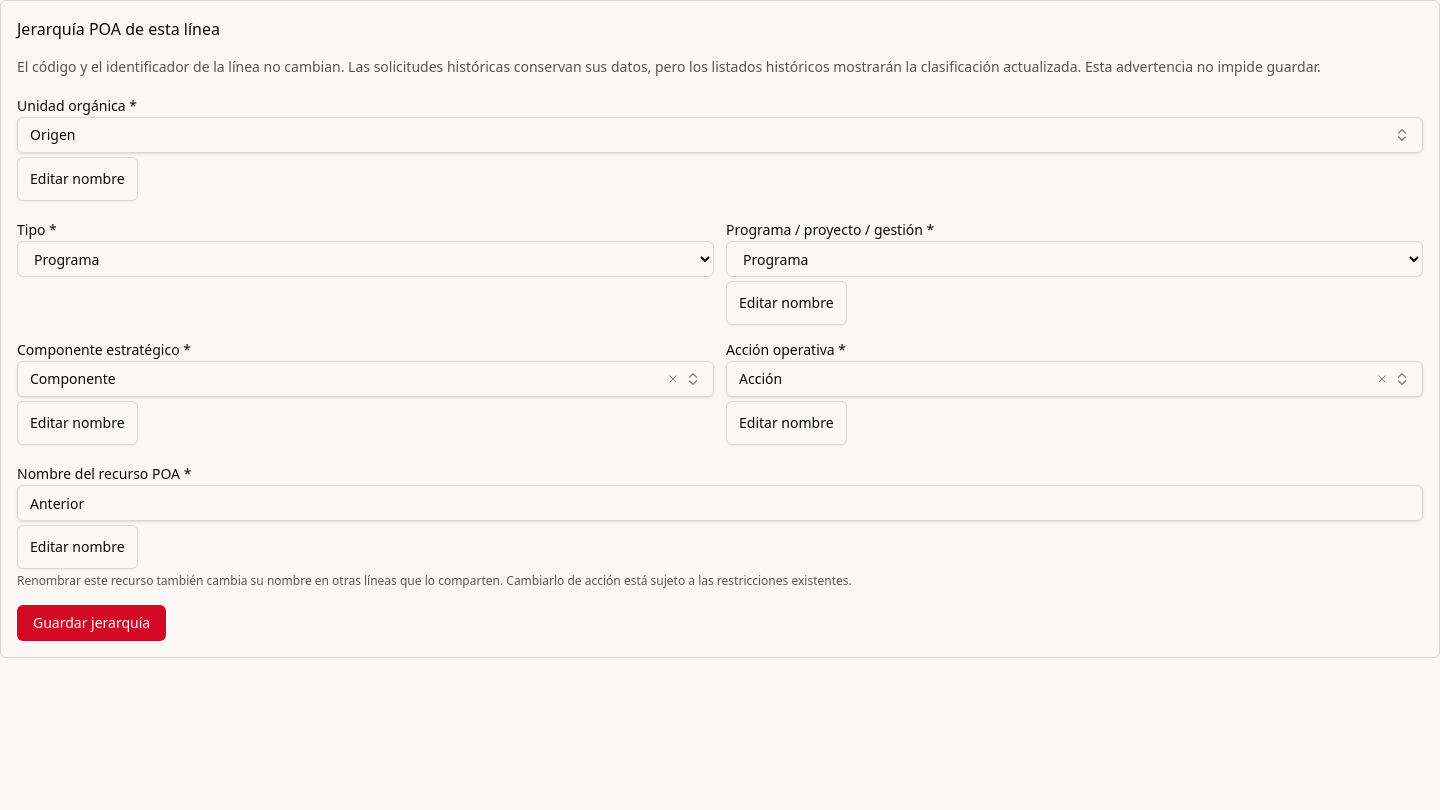
Test: edición de jerarquía POA › explains an action-move 409 without losing the entered resource name
Select "Otro programa" in the dropdown labelled "Programa / proyecto / gestión *". click: (1074, 259)
box: [726, 241, 1423, 277]
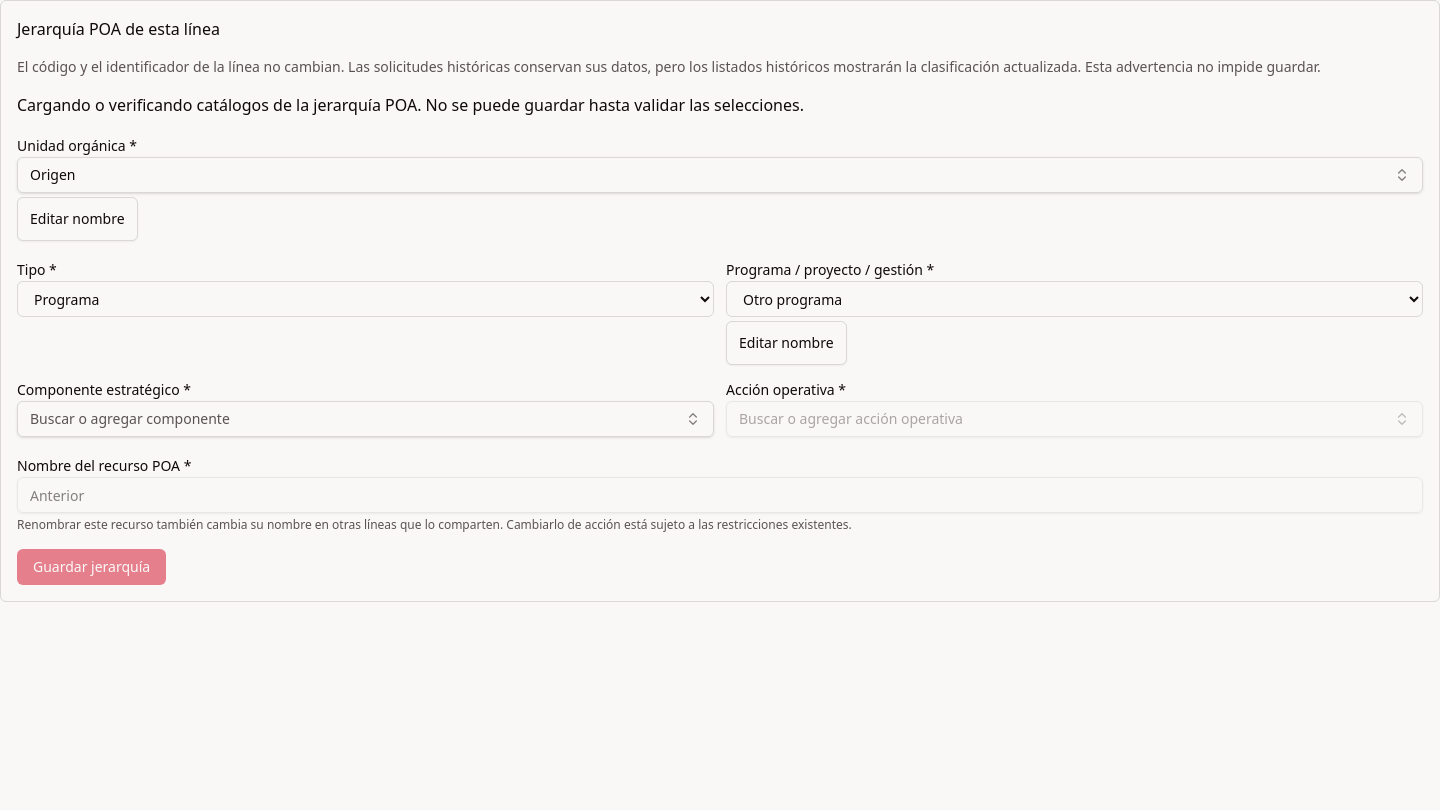
Click the button named "Componente estratégico *". click: (130, 418)
box: [17, 401, 714, 437]
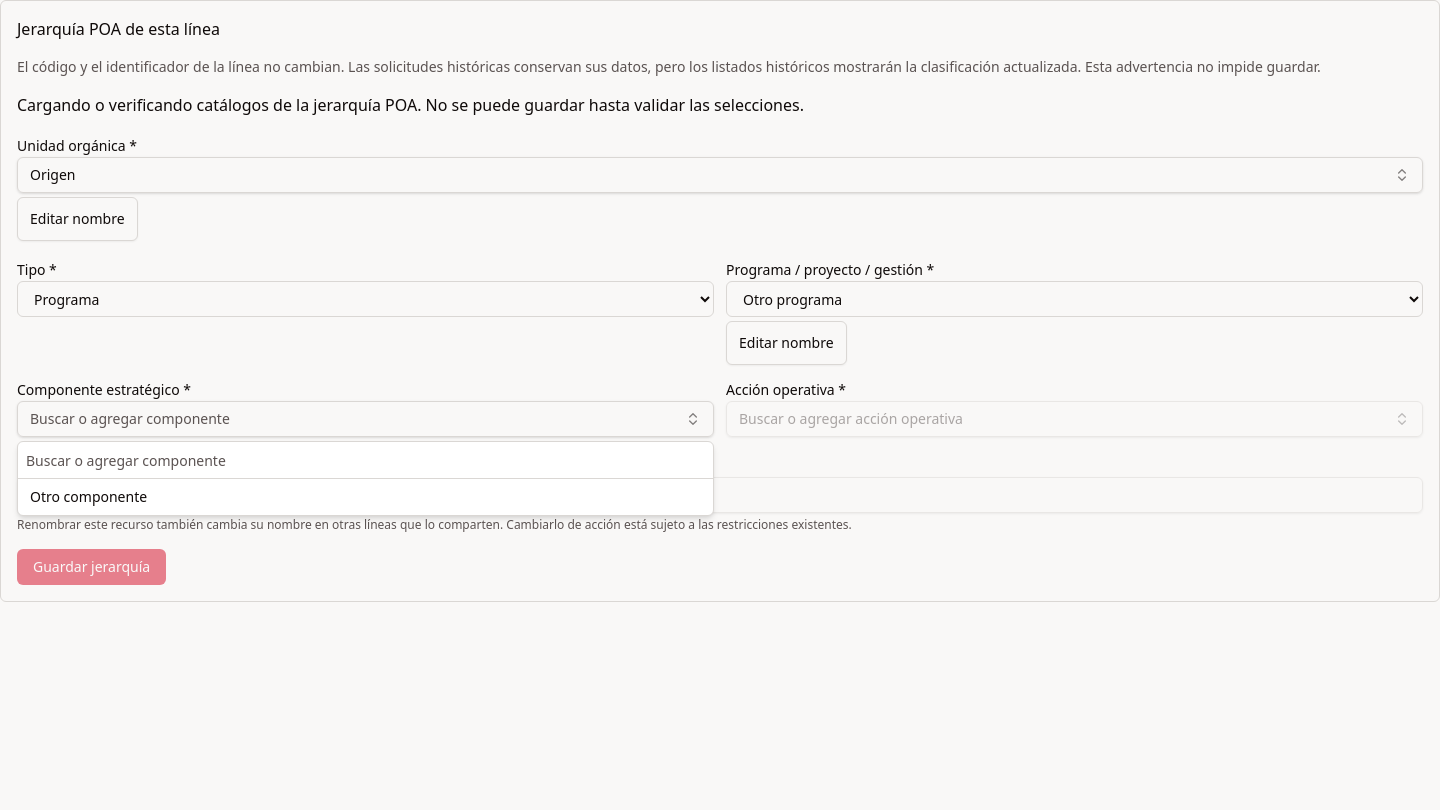
Click the button "Otro componente". click: (89, 496)
box: [18, 479, 713, 515]
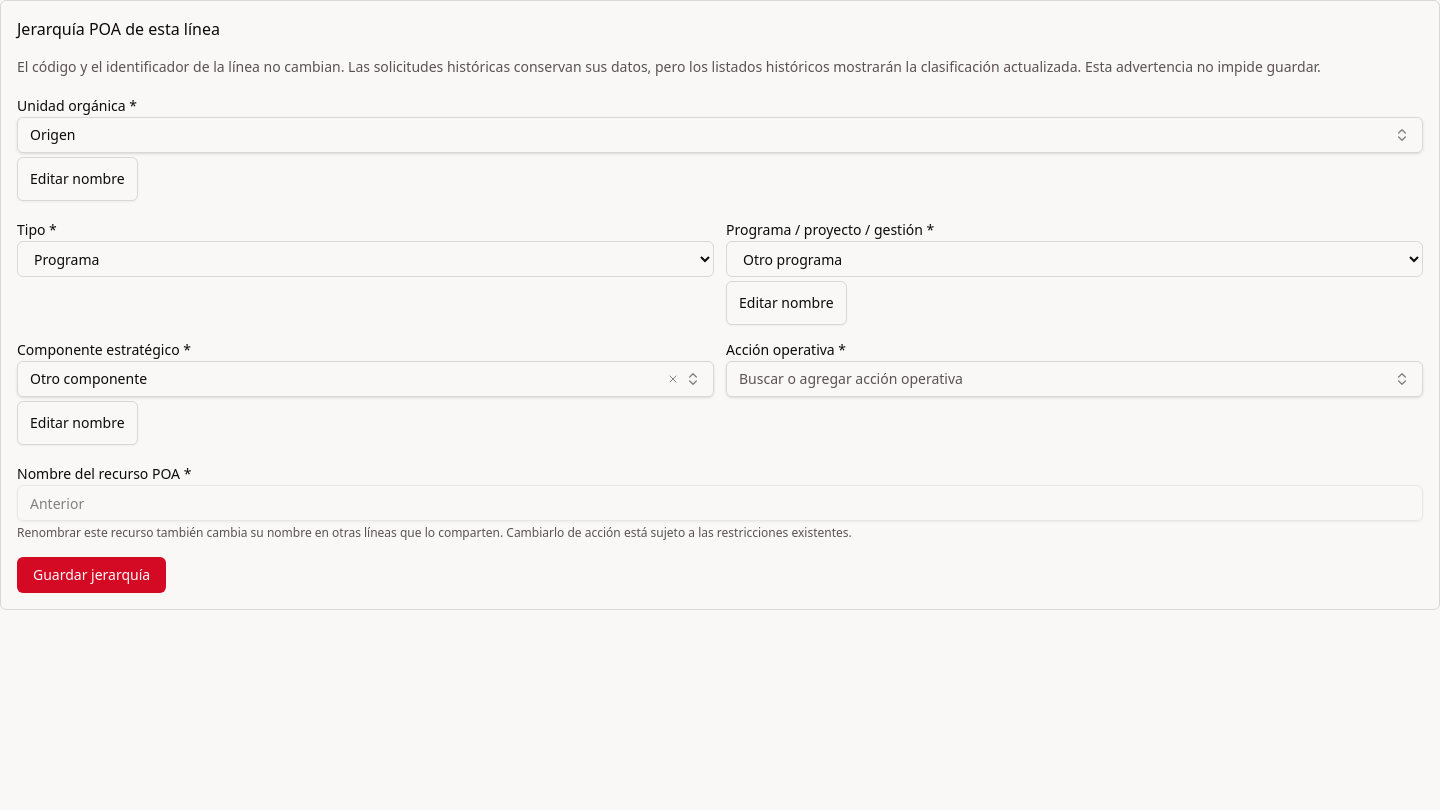
Click the button named "Acción operativa *". click: (851, 378)
box: [726, 361, 1423, 397]
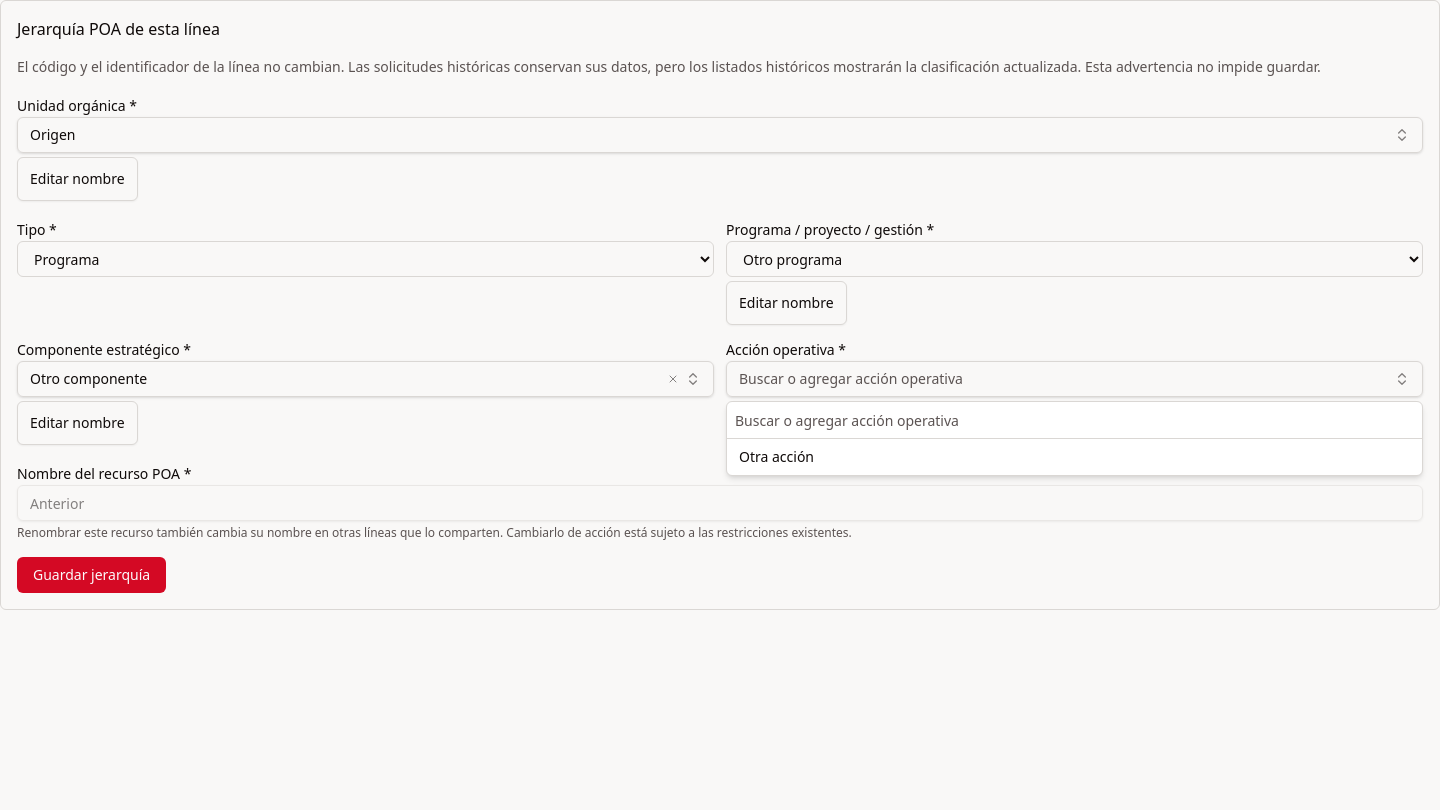
Click the button "Otra acción". click: (777, 456)
box: [727, 439, 1422, 475]
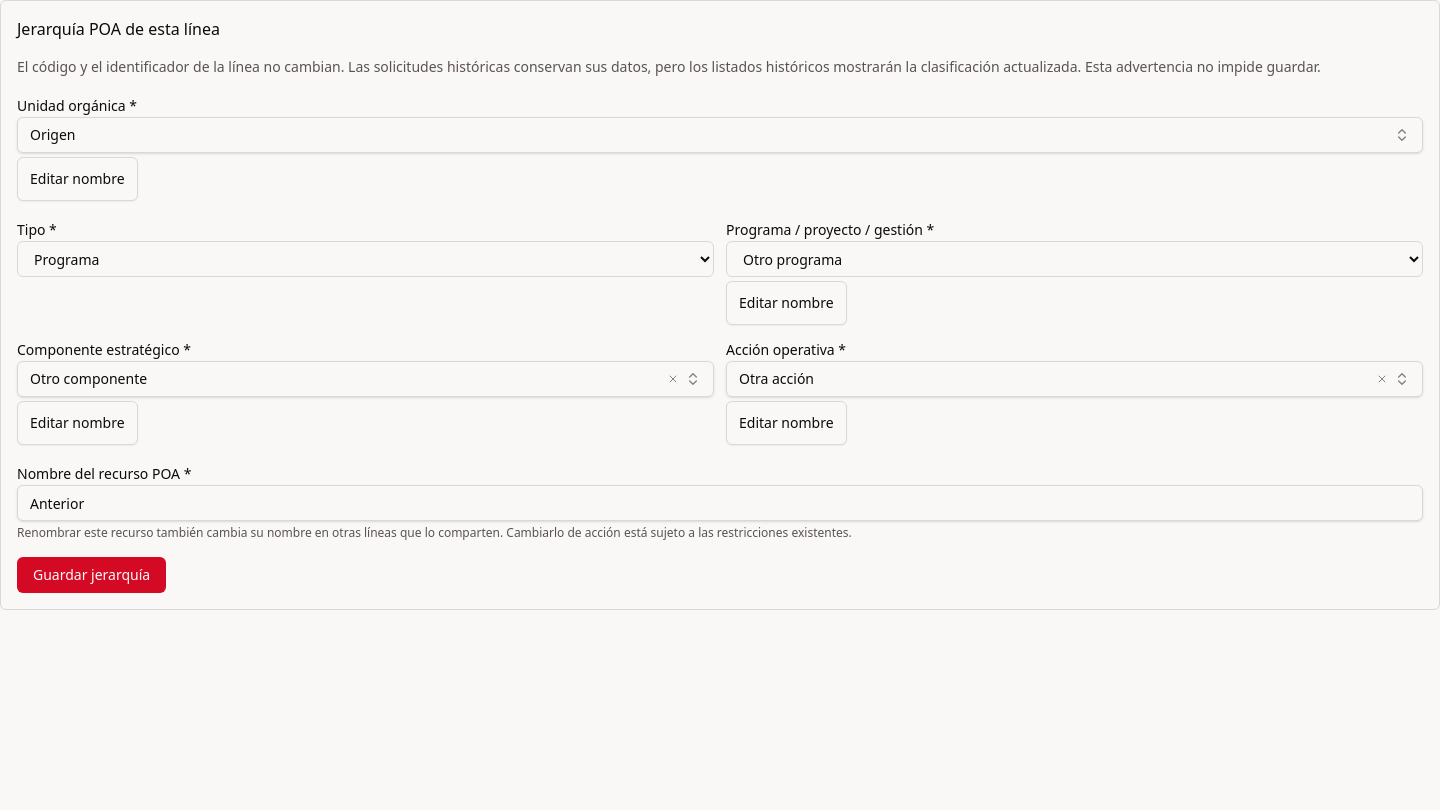
Replace the text in the field labelled "Nombre del recurso POA *" with "Intento". click: (720, 503)
box: [17, 485, 1423, 521]
Click the button "Guardar jerarquía". click: (92, 575)
box: [17, 557, 166, 593]
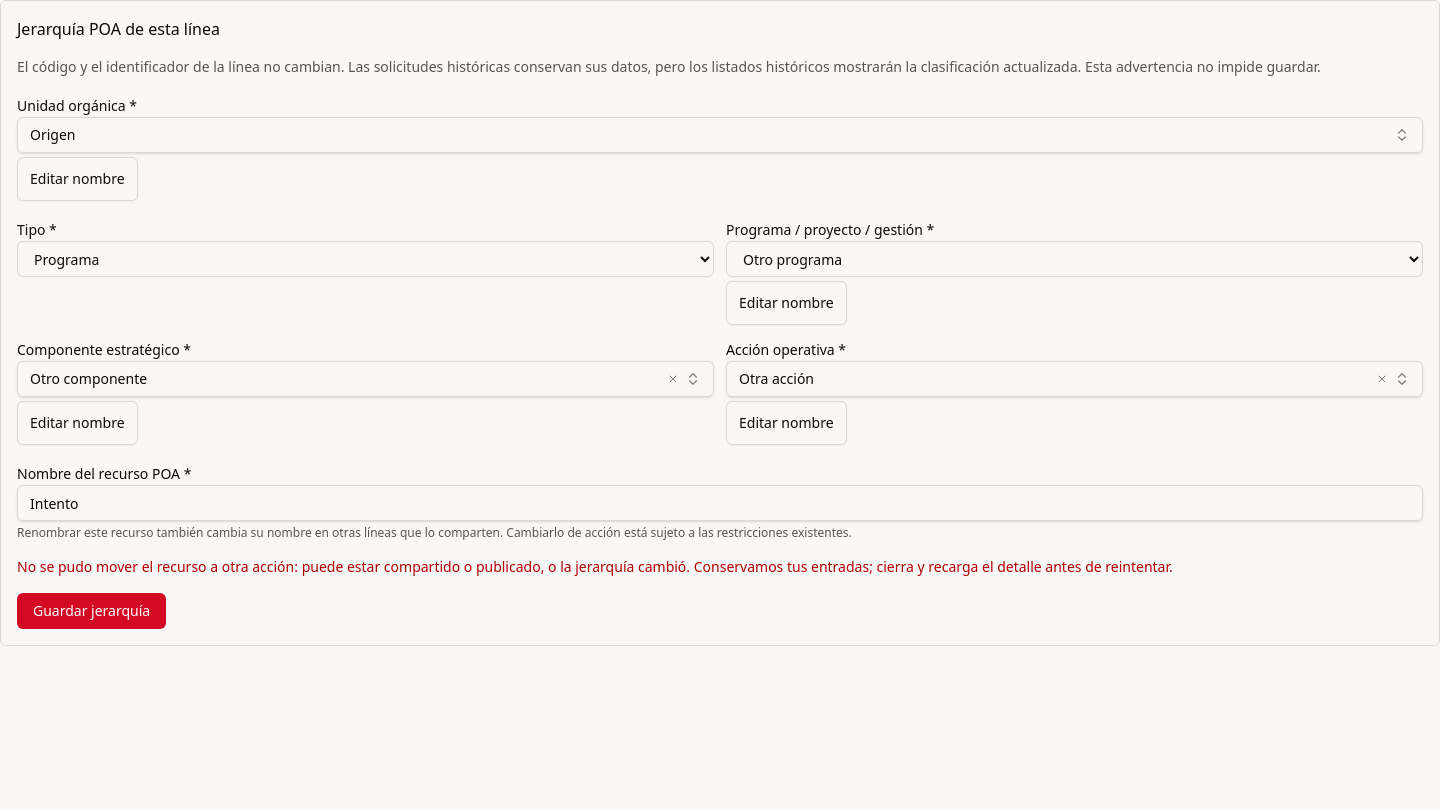
Expected: the message shows "compartido o publicado", [17, 557, 1173, 576]
